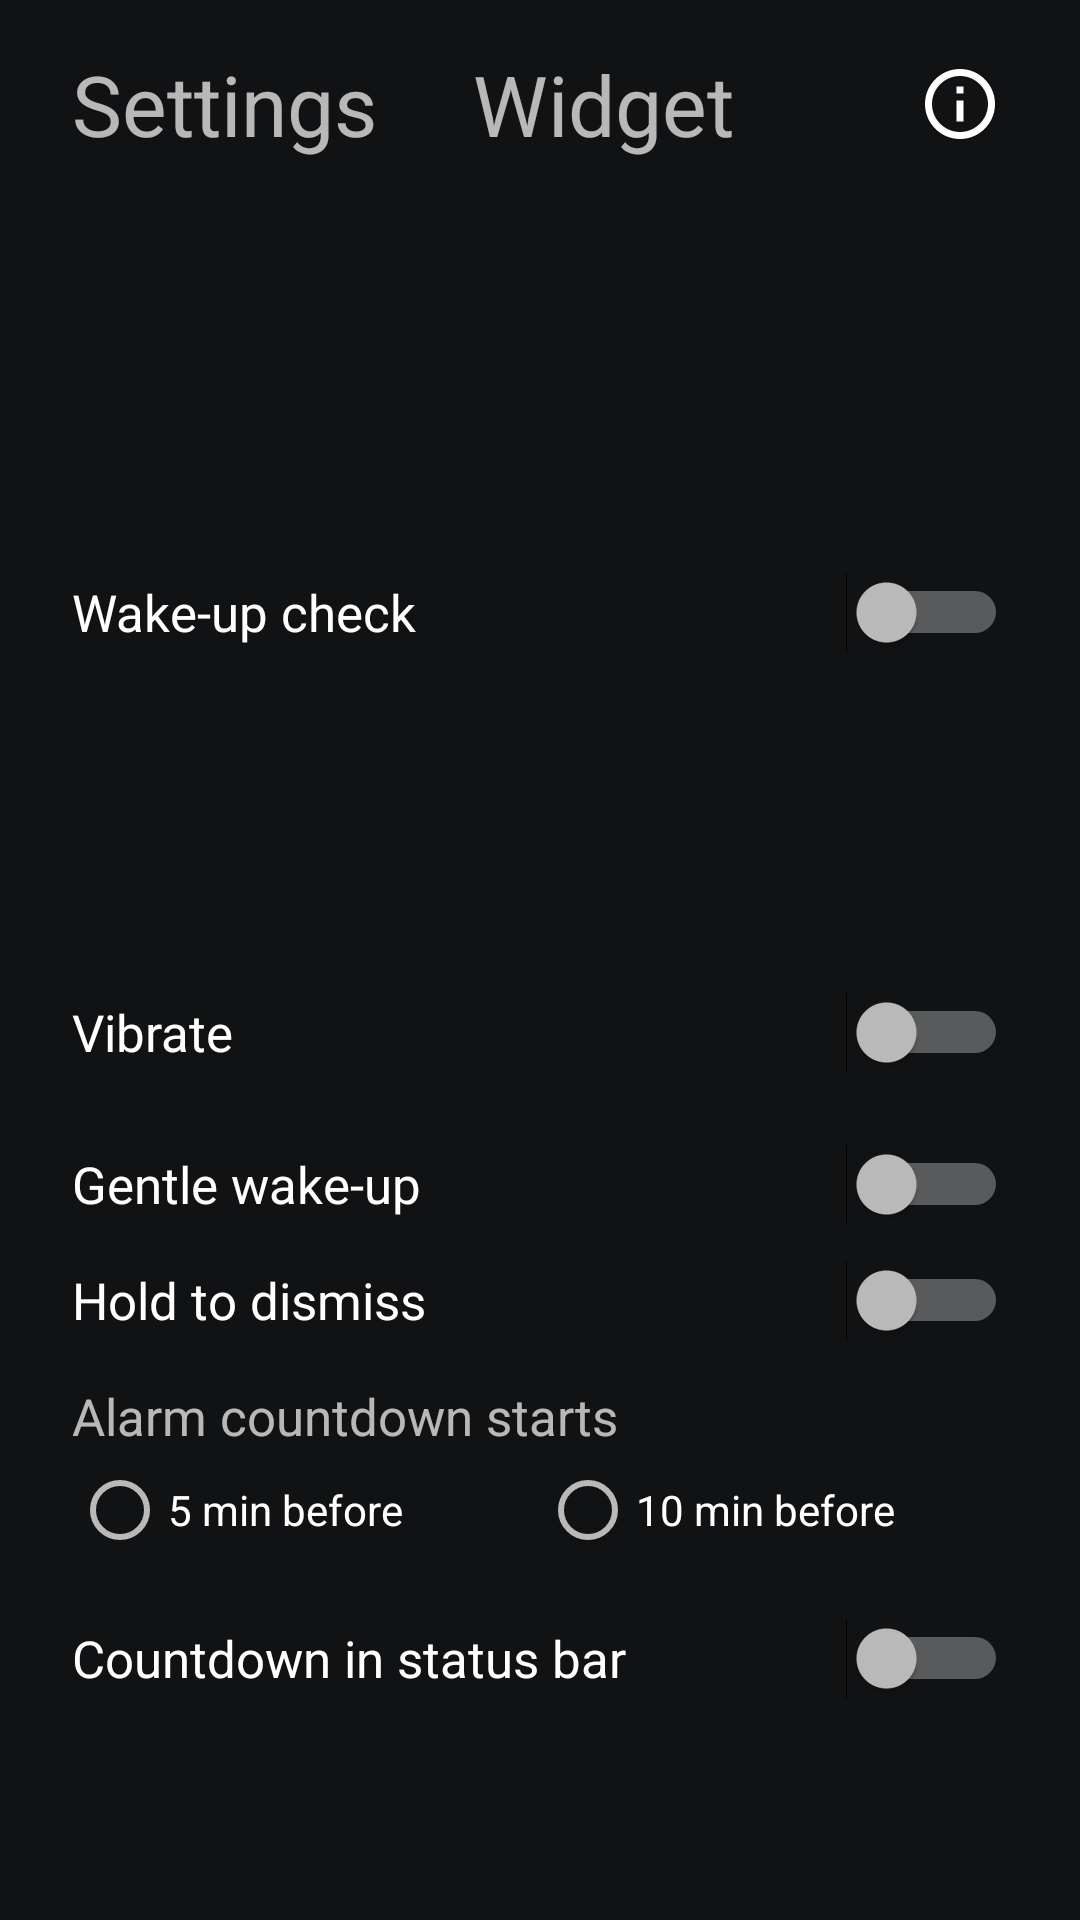

Icon click points for this 1080w x 1920h phone screenshot, format point (x, y):
Show explanations: point (960, 104)
